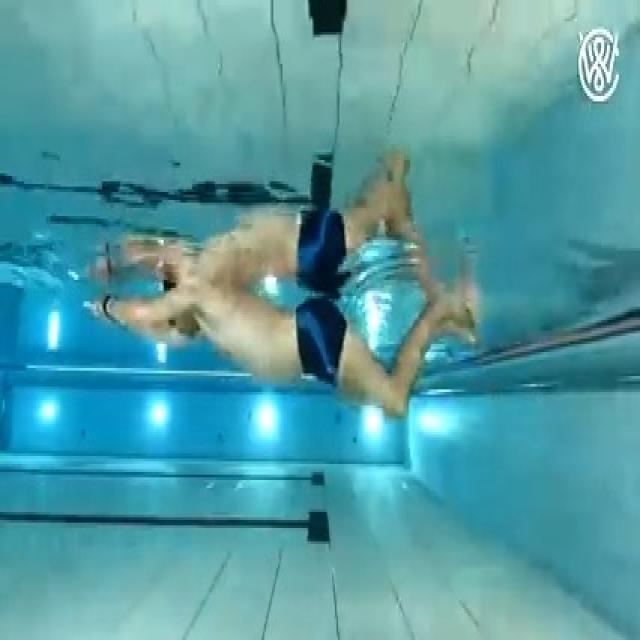Swimming: (87, 284, 474, 407)
